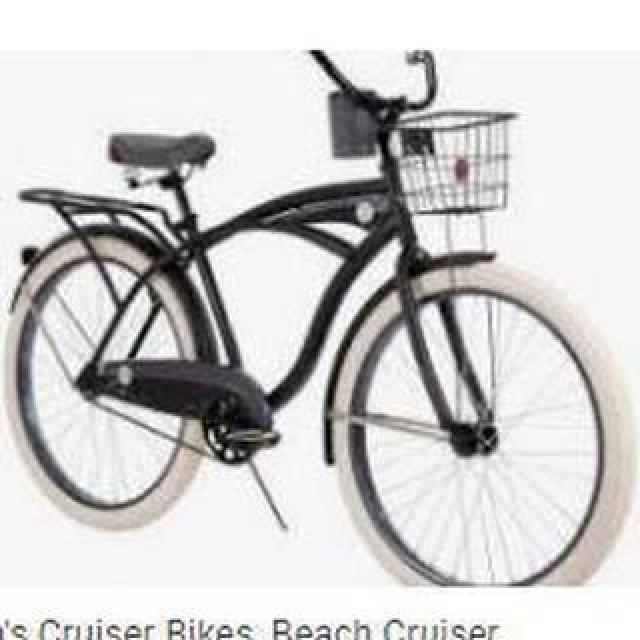Person: (3, 42, 635, 590)
